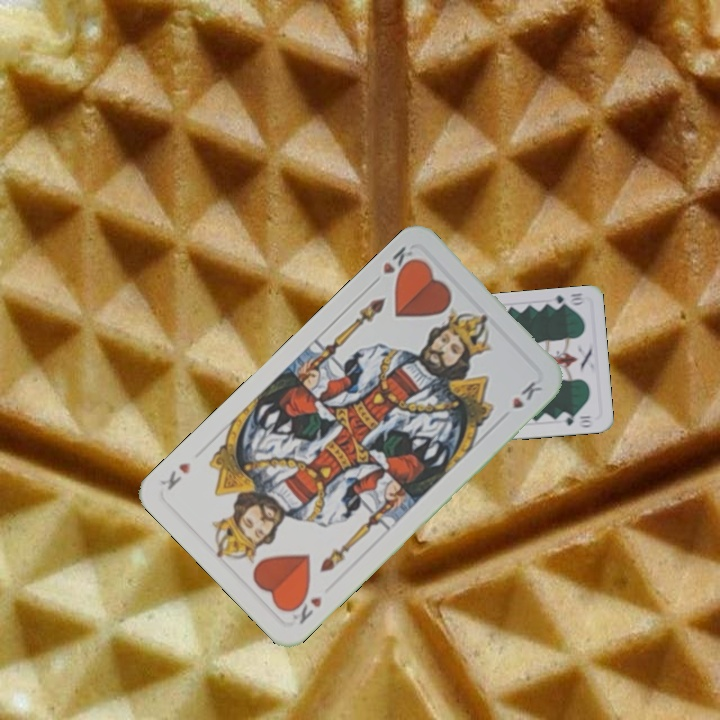G10: (547, 289, 587, 311)
HK: (367, 242, 420, 288), (285, 588, 325, 627)
